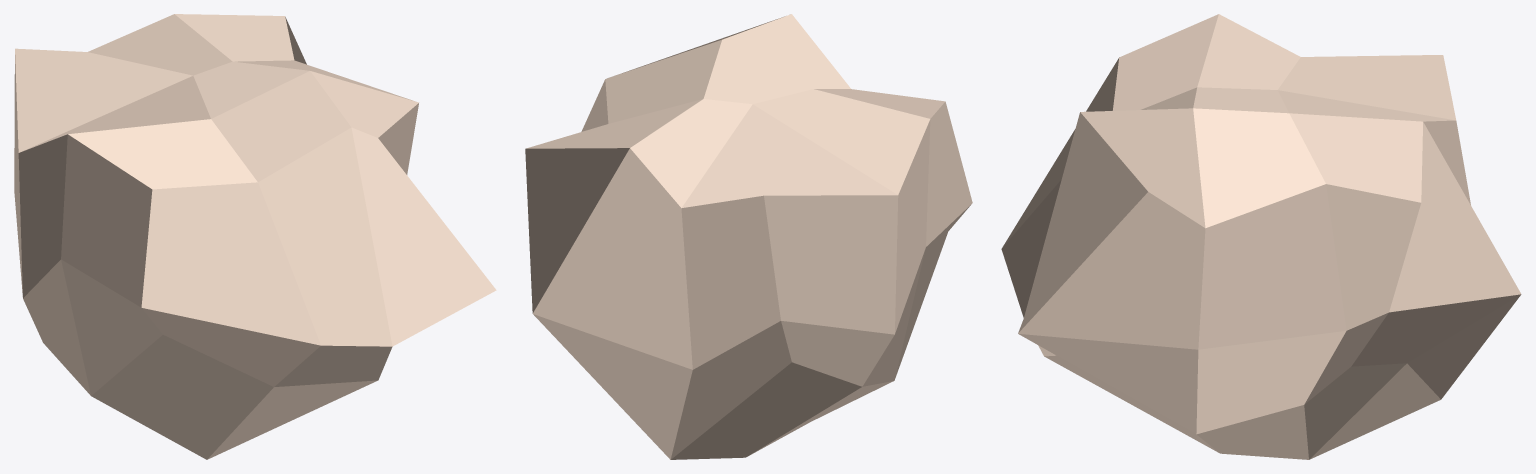
File: lump-paper2.fbx
3 views of the same model, side by side, from view 1: azimuth 30°, elevation 25°; view 2: azimuth 150°, elevation 25°; view 3: azimuth 270°, elevation 25° (orthographic). The views are drawn at different scales.
Parts seen in each view (by area): view 1: Cube.003; view 2: Cube.003; view 3: Cube.003.
Part boxes in pixels (box(x1,y1,x2,y2)): Cube.003: box(14, 14, 496, 459); Cube.003: box(525, 14, 972, 459); Cube.003: box(1001, 14, 1521, 459).
Size of the model in its own units: 20.3 by 19.8 by 25.43.
